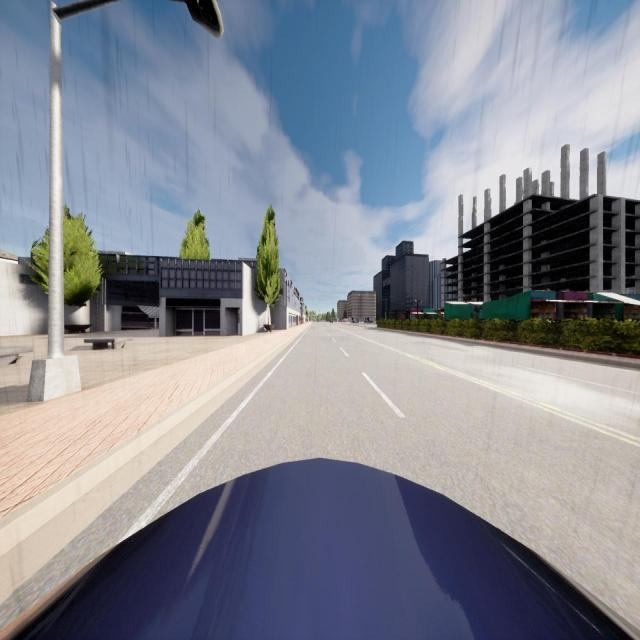Vehicle: (0, 458, 640, 640), (364, 318, 372, 323), (352, 319, 358, 324), (330, 319, 333, 323)
